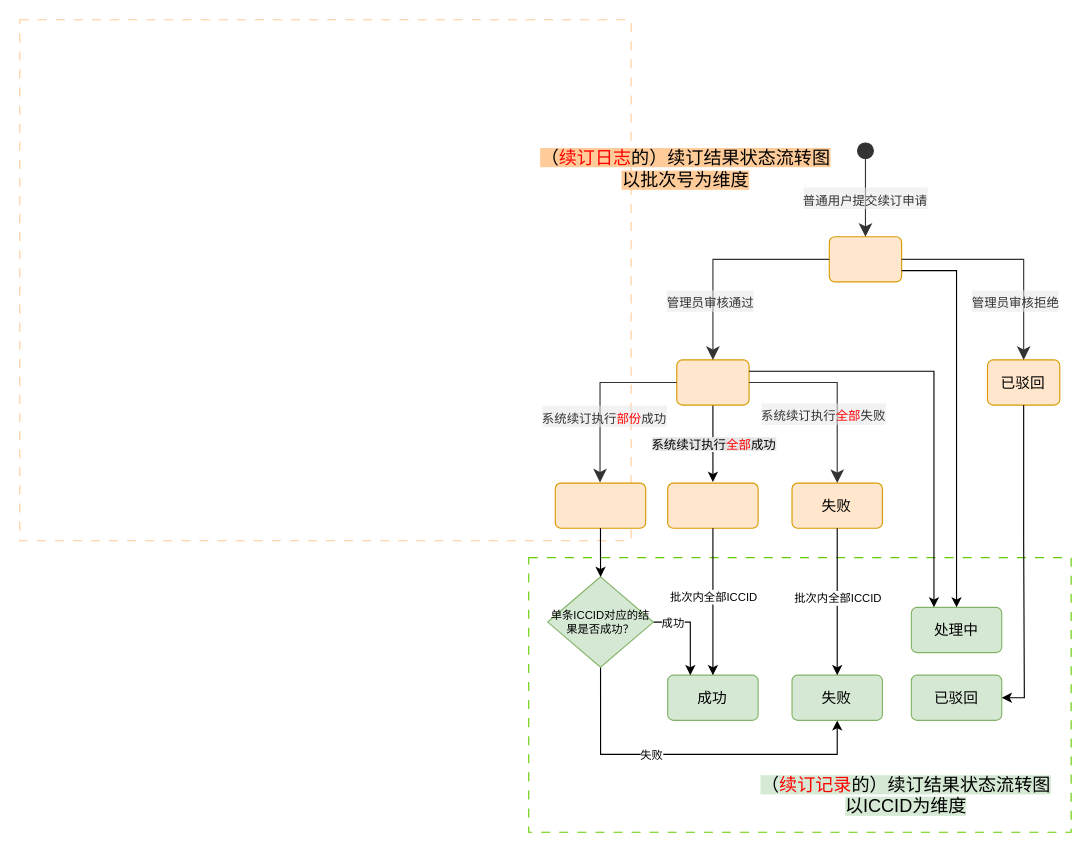
This 1092x852 diagram has some shape labels left out. Each missing label, with the box of its shape:
全部成功: (667, 482, 758, 528)
已通过: (676, 359, 749, 405)
待审核: (828, 236, 902, 282)
部份成功: (554, 482, 646, 528)
